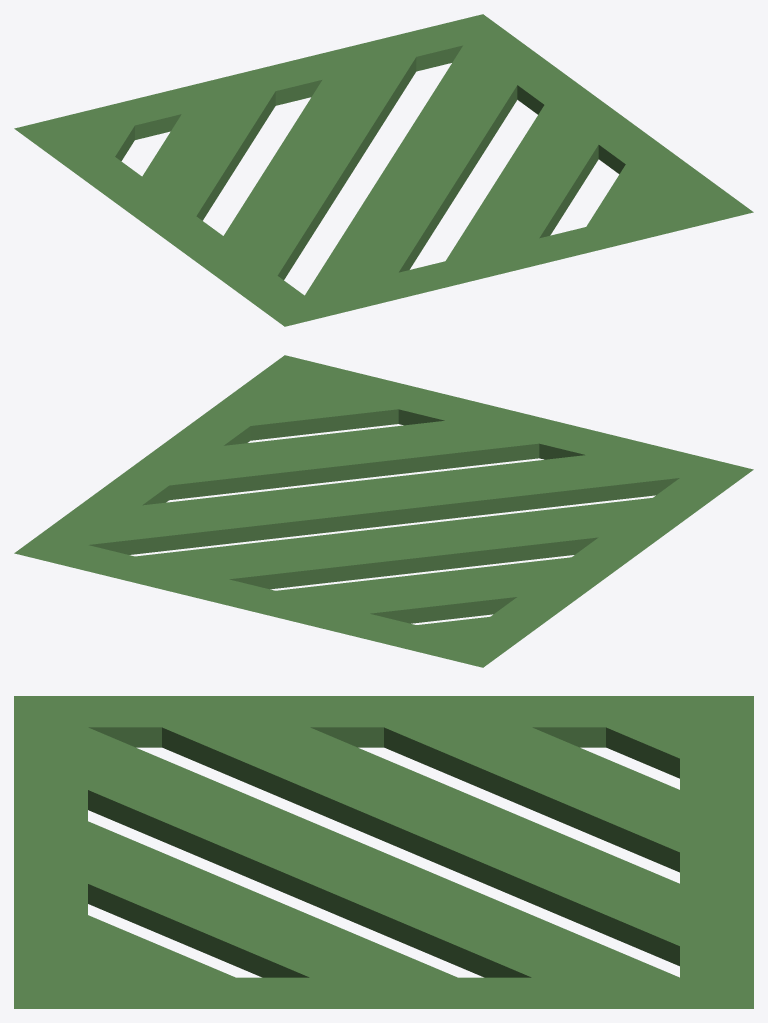
The model's file is Mesh_GridGreen.fbx.
3 views of the same model, one above another, from view 1: azimuth 30°, elevation 25°; view 2: azimuth 150°, elevation 25°; view 3: azimuth 270°, elevation 25° (orthographic). The views are drawn at different scales.
Parts seen in each view (by area): view 1: Mesh_GridGreen; view 2: Mesh_GridGreen; view 3: Mesh_GridGreen.
Part boxes in pixels (x1,y1,x2,y2): Mesh_GridGreen: [14, 14, 753, 326]; Mesh_GridGreen: [14, 355, 753, 667]; Mesh_GridGreen: [14, 696, 753, 1008].
Size of the model in its own units: 1 by 1 by 0.03.
